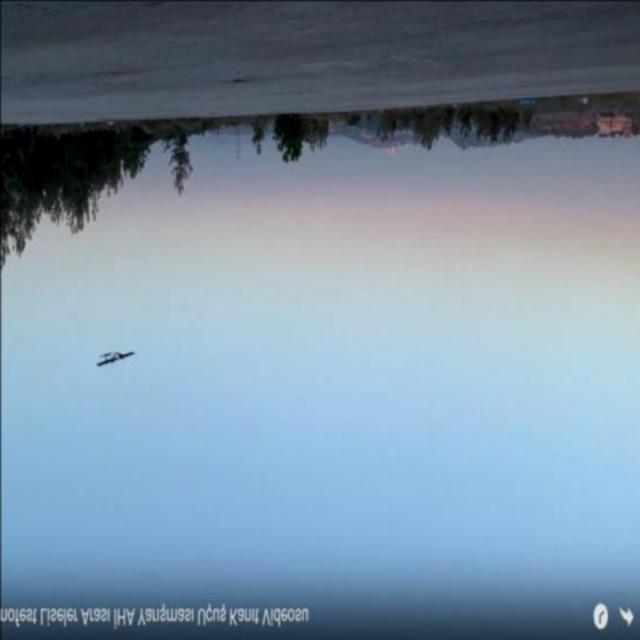plane: (96, 351, 135, 368)
